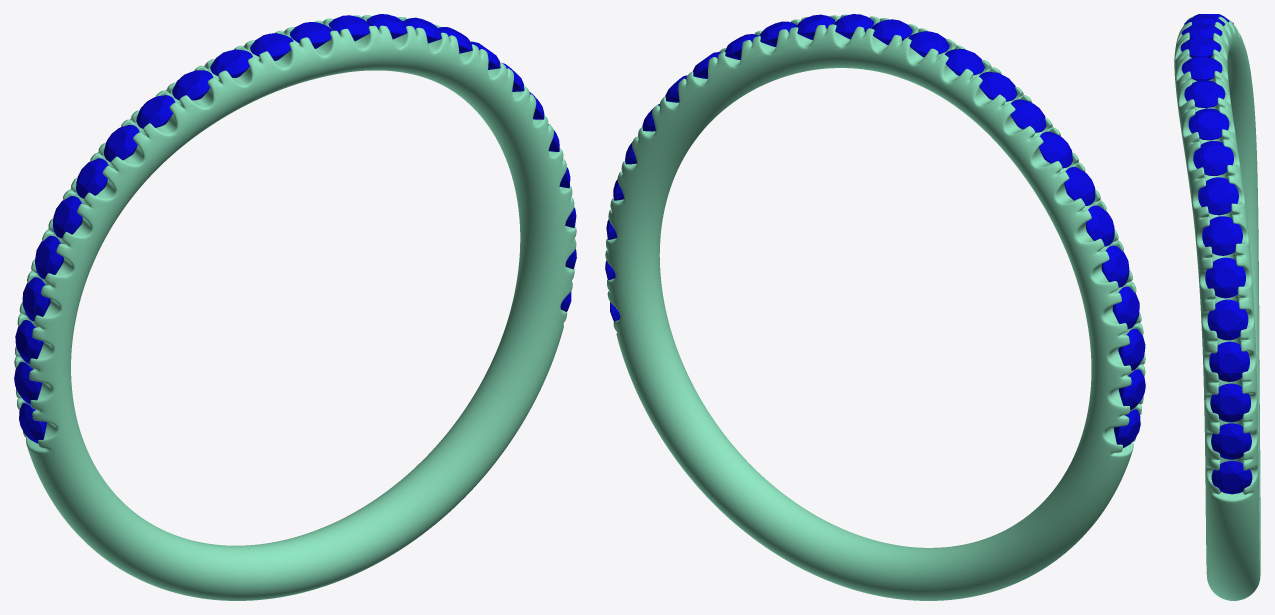
3 views of the same model, side by side, from view 1: azimuth 30°, elevation 25°; view 2: azimuth 150°, elevation 25°; view 3: azimuth 270°, elevation 25° (orthographic). The views are drawn at different scales.
Parts seen in each view (by area): view 1: Metal03, Diamond_Band.019, Diamond_Band.020, Diamond_Band.021, Diamond_Band.018, Diamond_Band.022, Diamond_Band.017, Diamond_Band.016, Diamond_Band.023, Diamond_Band.024, Diamond_Band.015, Diamond_Band (+1 smaller); view 2: Metal03, Diamond_Band.020, Diamond_Band.019, Diamond_Band.021, Diamond_Band.018, Diamond_Band.017, Diamond_Band.022, Diamond_Band.016, Diamond_Band.023, Diamond_Band.015, Diamond_Band.024; view 3: Metal03, Diamond_Band.008, Diamond_Band.007, Diamond_Band.009, Diamond_Band.006, Diamond_Band.010, Diamond_Band.005, Diamond_Band.011, Diamond_Band.004, Diamond_Band.012, Diamond_Band.003, Diamond_Band.002 (+4 smaller).
Part boxes in pixels (left/top/right/bottom): Metal03: left=14, top=15, right=576, bottom=600; Diamond_Band.019: left=76, top=158, right=108, bottom=198; Diamond_Band.020: left=104, top=125, right=139, bottom=162; Diamond_Band.021: left=136, top=95, right=175, bottom=128; Diamond_Band.018: left=52, top=196, right=82, bottom=238; Diamond_Band.022: left=172, top=70, right=213, bottom=100; Diamond_Band.017: left=35, top=235, right=63, bottom=279; Diamond_Band.016: left=22, top=277, right=50, bottom=321; Diamond_Band.023: left=210, top=49, right=252, bottom=77; Diamond_Band.024: left=250, top=33, right=293, bottom=60; Diamond_Band.015: left=15, top=320, right=43, bottom=363; Diamond_Band: left=290, top=22, right=332, bottom=48; Metal03: left=605, top=14, right=1145, bottom=600; Diamond_Band.020: left=1039, top=131, right=1072, bottom=168; Diamond_Band.019: left=1064, top=167, right=1095, bottom=205; Diamond_Band.021: left=1010, top=99, right=1046, bottom=132; Diamond_Band.018: left=1086, top=205, right=1114, bottom=246; Diamond_Band.017: left=1101, top=245, right=1129, bottom=287; Diamond_Band.022: left=979, top=71, right=1017, bottom=101; Diamond_Band.016: left=1112, top=286, right=1139, bottom=328; Diamond_Band.023: left=945, top=49, right=984, bottom=75; Diamond_Band.015: left=1118, top=328, right=1145, bottom=370; Diamond_Band.024: left=908, top=31, right=949, bottom=57; Metal03: left=1174, top=16, right=1260, bottom=600; Diamond_Band.008: left=1207, top=299, right=1248, bottom=340; Diamond_Band.007: left=1205, top=257, right=1245, bottom=298; Diamond_Band.009: left=1209, top=341, right=1249, bottom=381; Diamond_Band.006: left=1202, top=216, right=1242, bottom=255; Diamond_Band.010: left=1210, top=383, right=1250, bottom=422; Diamond_Band.005: left=1198, top=177, right=1238, bottom=215; Diamond_Band.011: left=1211, top=423, right=1251, bottom=459; Diamond_Band.004: left=1193, top=141, right=1233, bottom=175; Diamond_Band.012: left=1211, top=461, right=1252, bottom=494; Diamond_Band.003: left=1188, top=108, right=1229, bottom=140; Diamond_Band.002: left=1184, top=80, right=1225, bottom=108.
Bounding box in the file's own units: 20.86 × 20.88 × 3.08.
